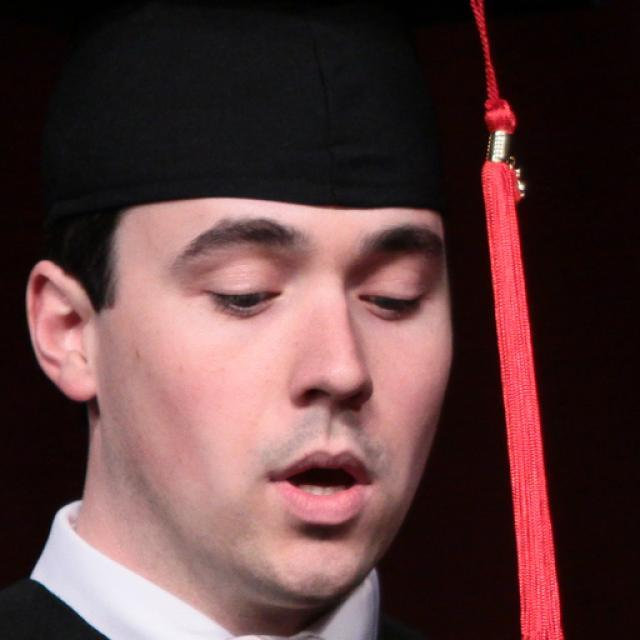surprise: (100, 186, 457, 602)
